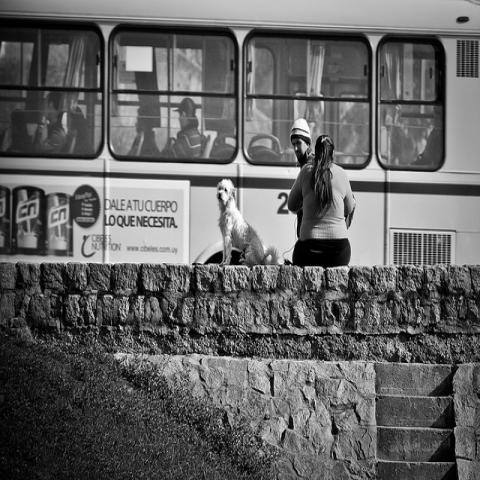bus: (0, 1, 478, 267)
